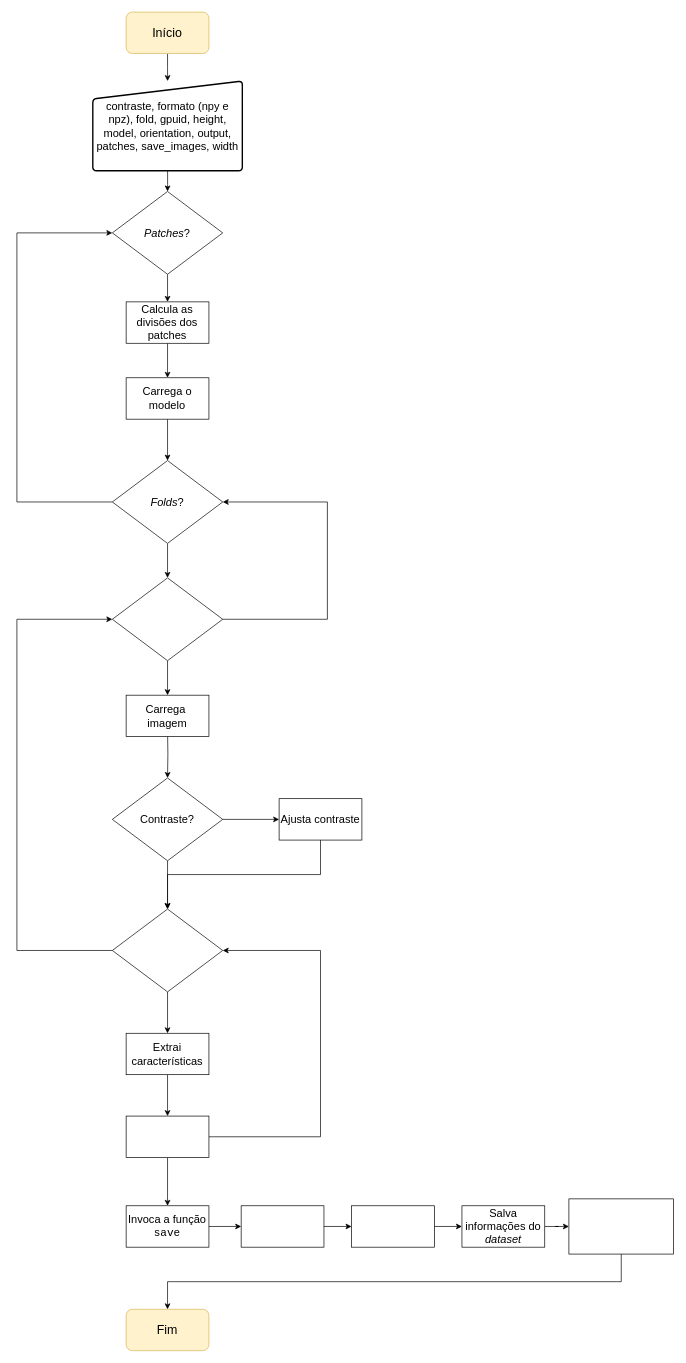
Image size: 686x1363. Some labels were removed from this diagram. Each missing label, with the box of its shape:
Armazena características em uma lista: (125, 1115, 209, 1157)
Salva características em uma arquivo: (240, 1205, 324, 1247)
Salva imagens com patches: (351, 1205, 434, 1247)
Salva informações das amostras utilizadas: (568, 1198, 674, 1254)
Tem imagem?: (112, 577, 223, 661)
Tem patch ?: (112, 908, 223, 992)
